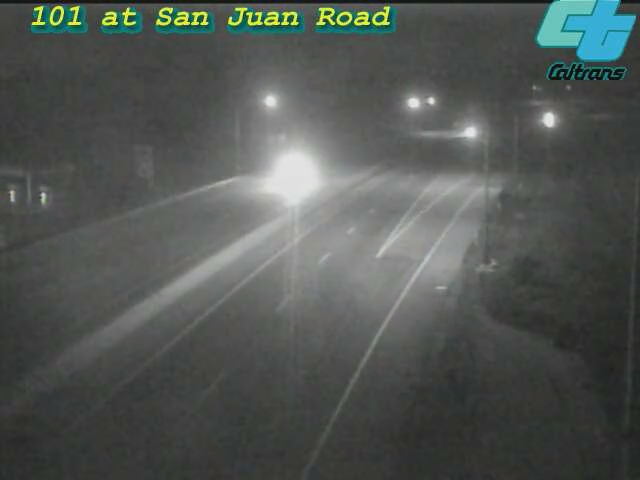vehicle: (254, 134, 334, 214), (444, 108, 494, 158), (524, 95, 574, 145)
